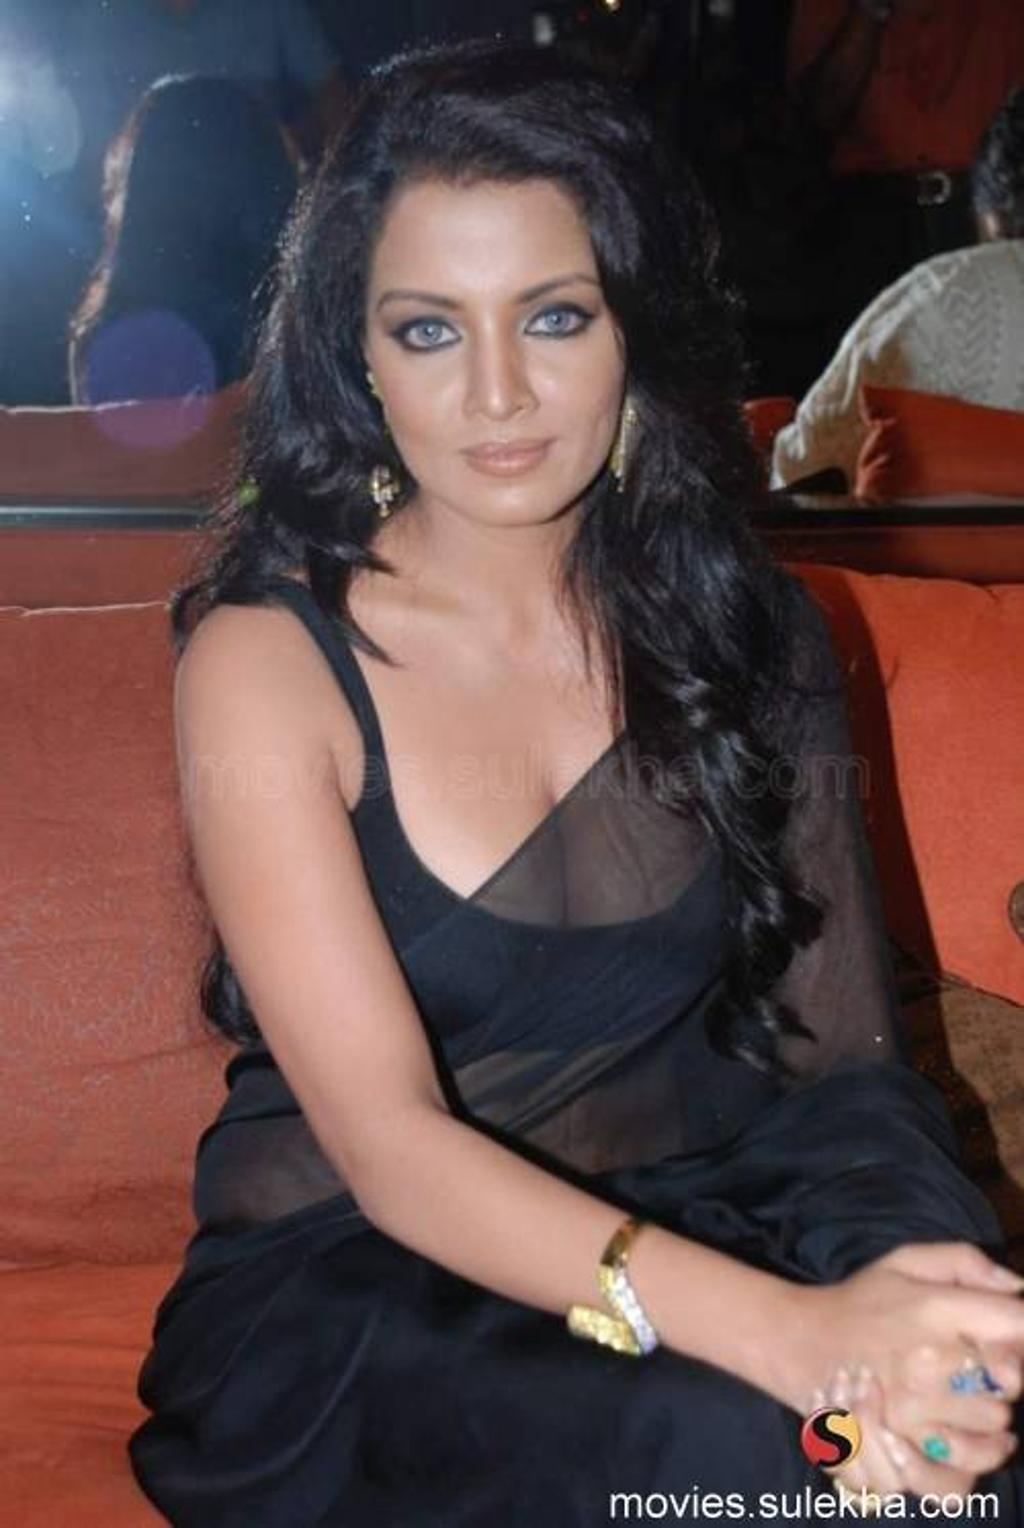face: (374, 174, 616, 502)
